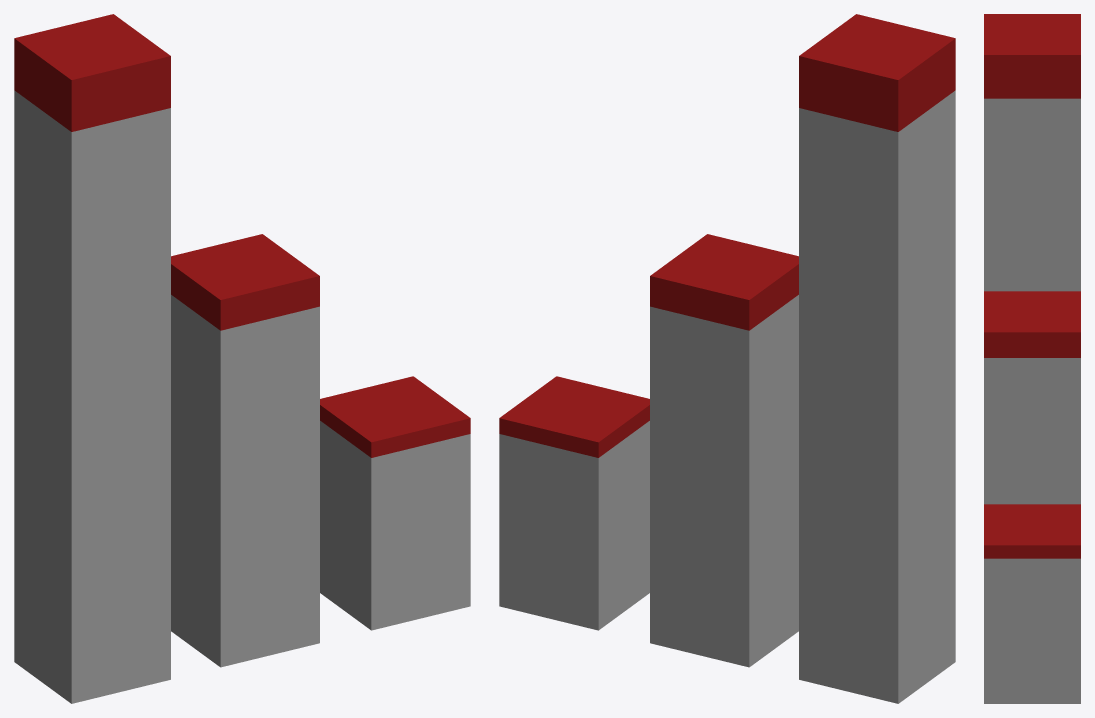
File: humanProxy.fbx
3 views of the same model, side by side, from view 1: azimuth 30°, elevation 25°; view 2: azimuth 150°, elevation 25°; view 3: azimuth 270°, elevation 25° (orthographic). The views are drawn at different scales.
Visible parts, largest first — view 1: pCube1, pCube2, pCube3; view 2: pCube1, pCube2, pCube3; view 3: pCube1, pCube2, pCube3.
Part boxes in pixels (x1=…): pCube1: x1=14, y1=14, x2=170, y2=703; pCube2: x1=171, y1=234, x2=319, y2=667; pCube3: x1=320, y1=376, x2=470, y2=630; pCube1: x1=799, y1=14, x2=955, y2=703; pCube2: x1=650, y1=234, x2=798, y2=667; pCube3: x1=499, y1=376, x2=649, y2=630; pCube1: x1=984, y1=14, x2=1080, y2=291; pCube2: x1=984, y1=291, x2=1080, y2=504; pCube3: x1=984, y1=504, x2=1080, y2=703.
Size of the model in its own units: 4.02 by 6 by 1.
